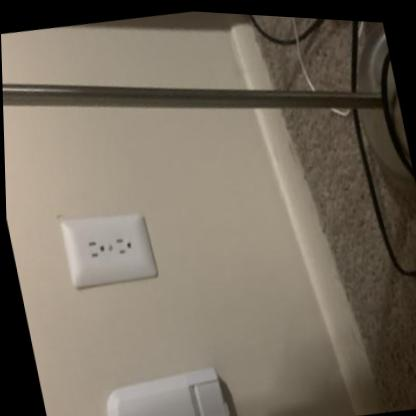OUTLET: (56, 203, 156, 291)
